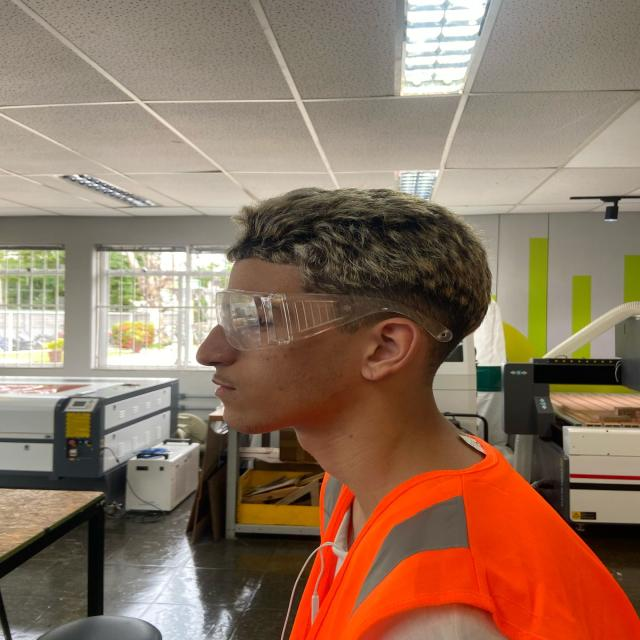COLETE: (282, 426, 639, 640)
OCULOS: (210, 282, 457, 350)
